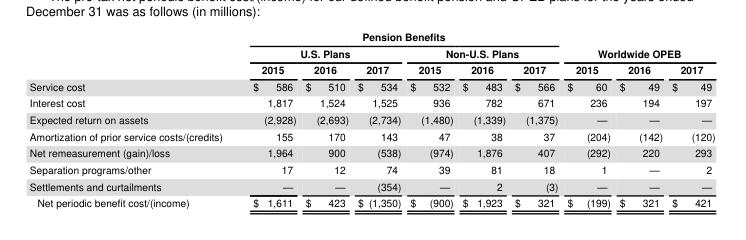table: (28, 29, 714, 209)
table column: (28, 29, 237, 209), (237, 29, 300, 209), (404, 29, 457, 209), (561, 29, 614, 209), (300, 29, 352, 209), (352, 29, 404, 209), (457, 29, 509, 209), (509, 29, 561, 209), (614, 29, 666, 209), (666, 29, 714, 209)
table column header: (28, 29, 714, 77)
table row: (28, 44, 714, 61), (28, 77, 714, 94), (28, 110, 714, 127), (28, 127, 714, 144), (28, 160, 714, 177), (28, 61, 714, 77), (28, 94, 714, 110), (28, 144, 714, 160), (28, 177, 714, 193), (28, 193, 714, 209), (28, 29, 714, 44)
table spanning cell: (561, 29, 714, 61), (237, 29, 561, 44), (237, 44, 404, 61), (404, 44, 561, 61)
